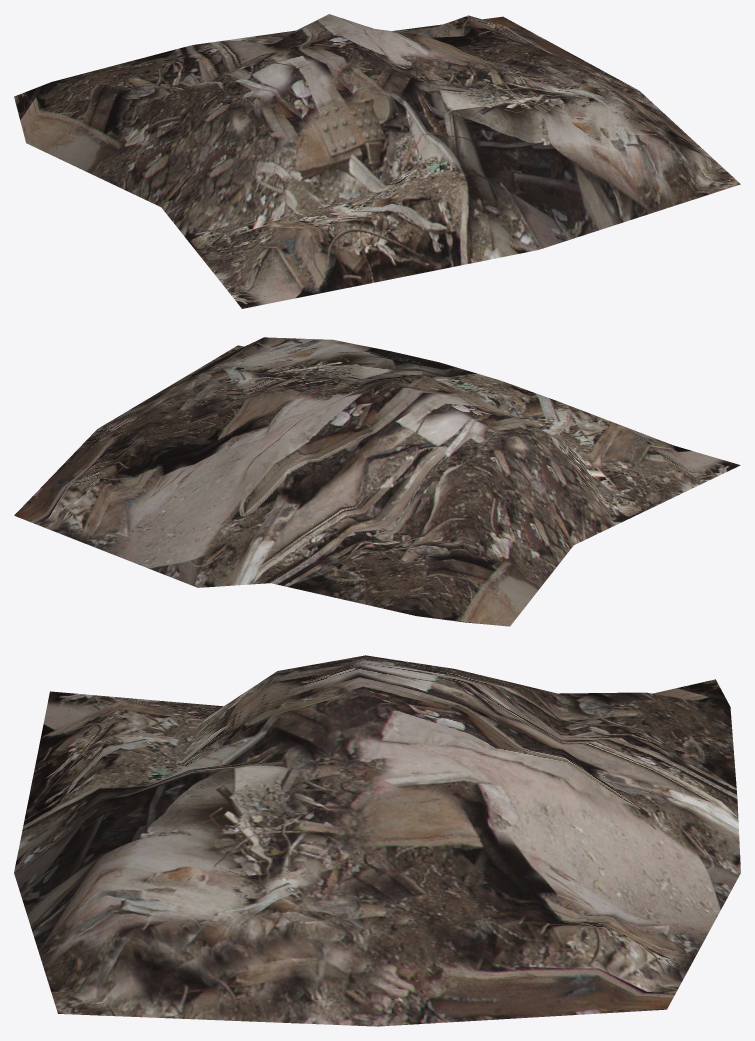
Rendered from rubblePatch_1.obj.
The picture shows the model from 3 angles, top to bottom: view 1: azimuth 30°, elevation 25°; view 2: azimuth 150°, elevation 25°; view 3: azimuth 270°, elevation 25°; orthographic projection. The views are drawn at different scales.
Parts seen in each view (by area): view 1: pPlane1; view 2: pPlane1; view 3: pPlane1.
Boxes of the visible parts, x1=… form: pPlane1: x1=14, y1=14, x2=740, y2=308; pPlane1: x1=14, y1=337, x2=740, y2=626; pPlane1: x1=14, y1=655, x2=740, y2=1026.
Bounding box in the file's own units: 4.36 × 0.8986 × 4.
Materials: 1 (1 with a texture image).
